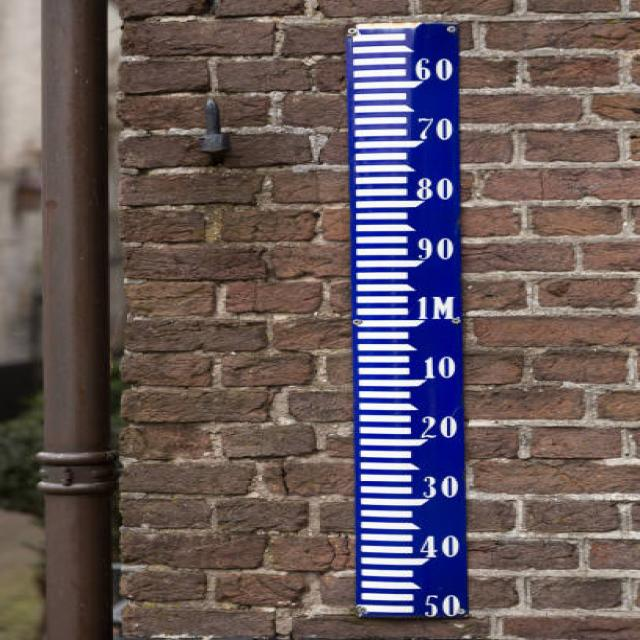water-meter: (344, 20, 475, 626)
